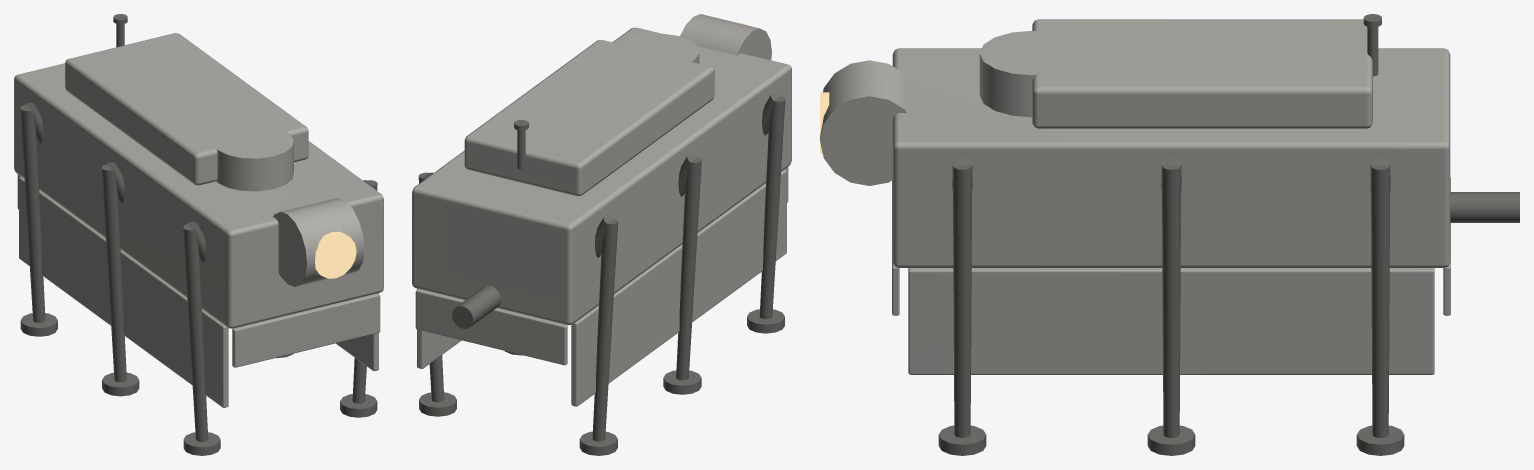
The model's file is tiller-blockout.glb.
3 views of the same model, side by side, from view 1: azimuth 30°, elevation 25°; view 2: azimuth 150°, elevation 25°; view 3: azimuth 270°, elevation 25° (orthographic). The views are drawn at different scales.
Parts seen in each view (by area): view 1: tiller-hull, tiller-sensor; view 2: tiller-hull; view 3: tiller-hull.
Boxes of the visible parts, box(x1,y1,x2,y2) form: tiller-hull: box(14, 14, 383, 455); tiller-sensor: box(315, 231, 356, 278); tiller-hull: box(412, 14, 791, 455); tiller-hull: box(820, 14, 1519, 455).
Size of the model in its own units: 1.84 by 2.7 by 4.52.
2 materials, 1 textured.
